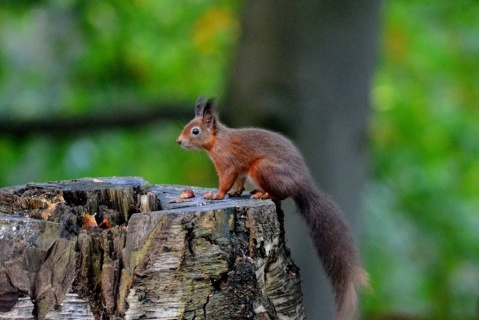Squirrel: (176, 90, 372, 319)
